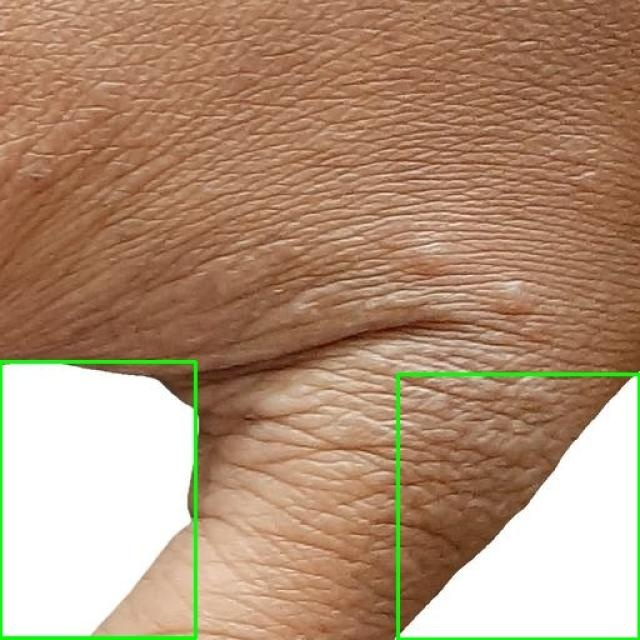Scabies: (398, 374, 639, 639), (0, 362, 196, 639)
